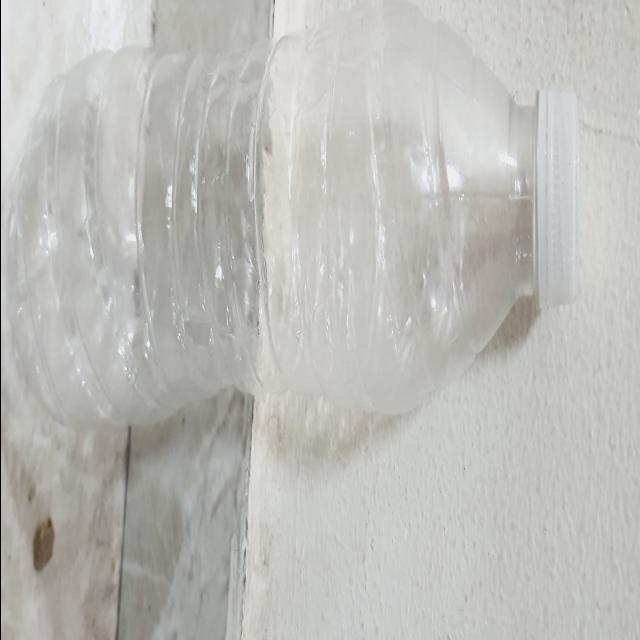plastic: (0, 0, 580, 449)
